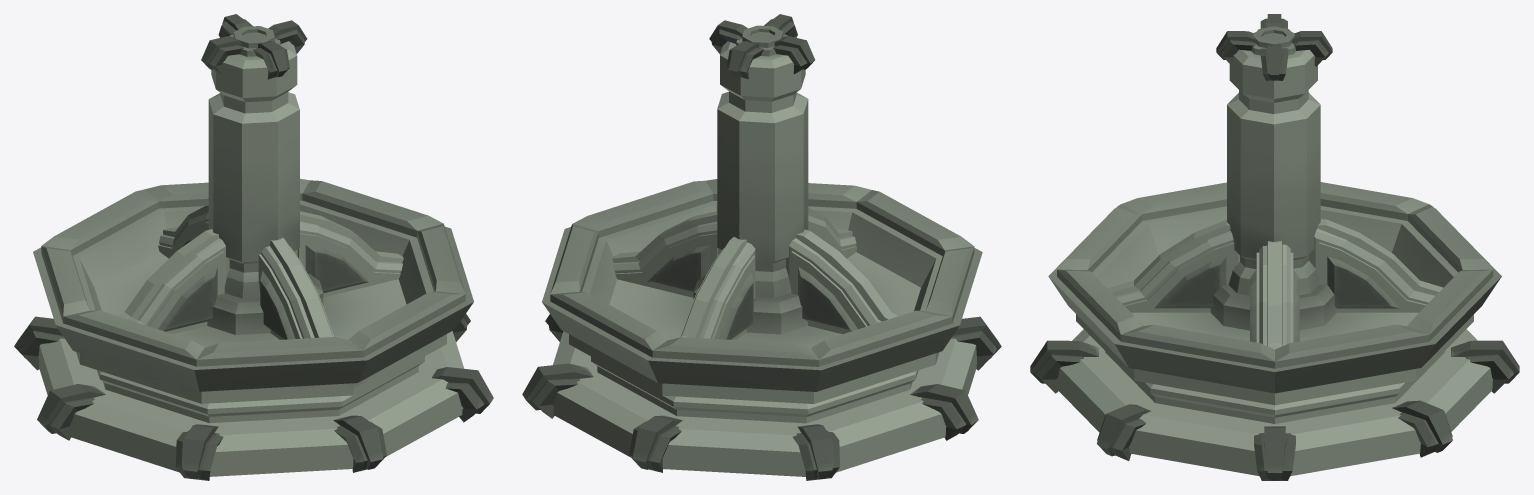
File: fonte.fbx
3 views of the same model, side by side, from view 1: azimuth 30°, elevation 25°; view 2: azimuth 150°, elevation 25°; view 3: azimuth 270°, elevation 25° (orthographic).
Parts seen in each view (by area): view 1: Fonte; view 2: Fonte; view 3: Fonte.
Boxes of the visible parts, x1,y1,x2,y2 form: Fonte: [14, 14, 493, 480]; Fonte: [522, 14, 1001, 480]; Fonte: [1030, 14, 1519, 480].
Size of the model in its own units: 2.03 by 1.64 by 2.03.
1 material, 1 textured.
